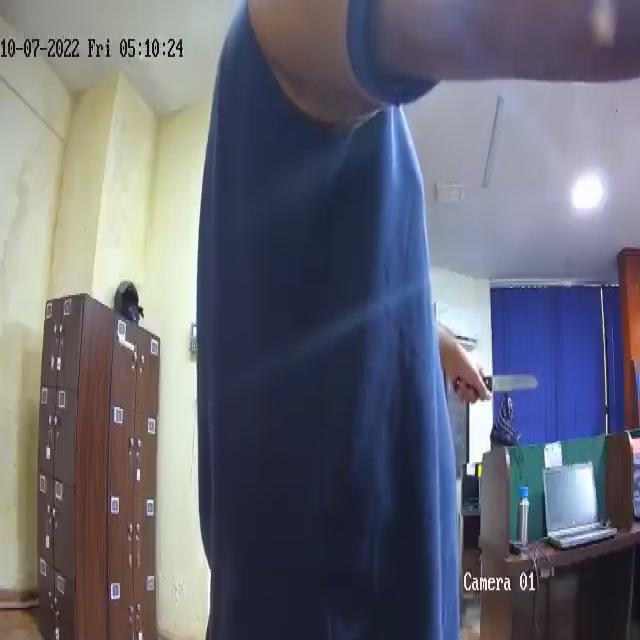Knife: (452, 366, 540, 395)
